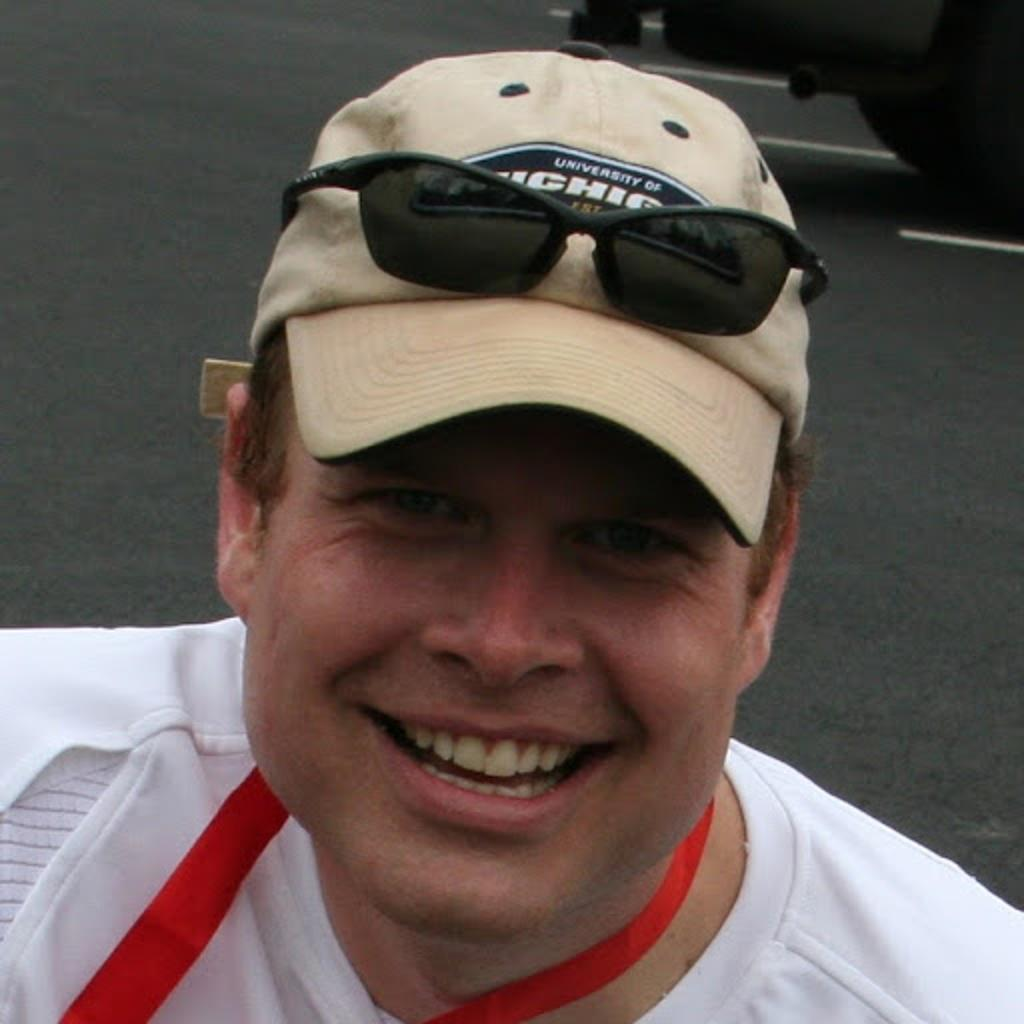face: (246, 270, 742, 938)
